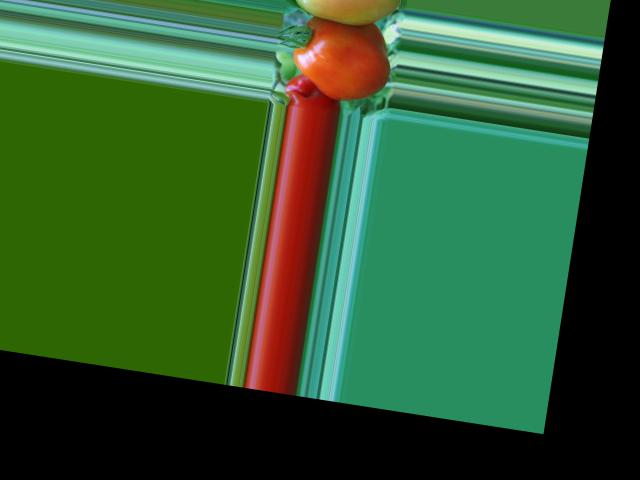tomato: (287, 15, 396, 106)
